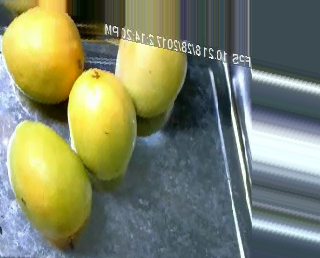Mango: (7, 119, 93, 241), (1, 5, 84, 103), (66, 67, 136, 182), (110, 34, 190, 117)
